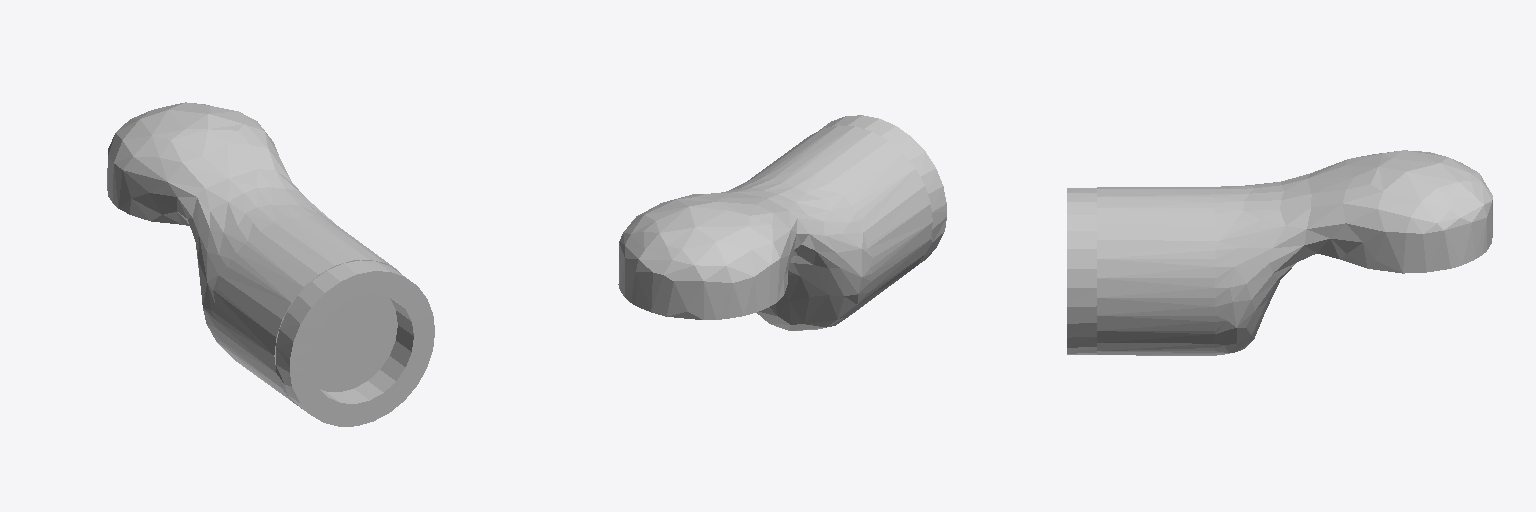
The model's file is dual_rm_75b_description_r_link6_visuals_r_link6_mesh.obj.
The picture shows the model from 3 angles: view 1: azimuth 30°, elevation 25°; view 2: azimuth 150°, elevation 25°; view 3: azimuth 270°, elevation 25°; orthographic projection.
Bounding box in the file's own units: 0.0573 × 0.0684 × 0.1434.